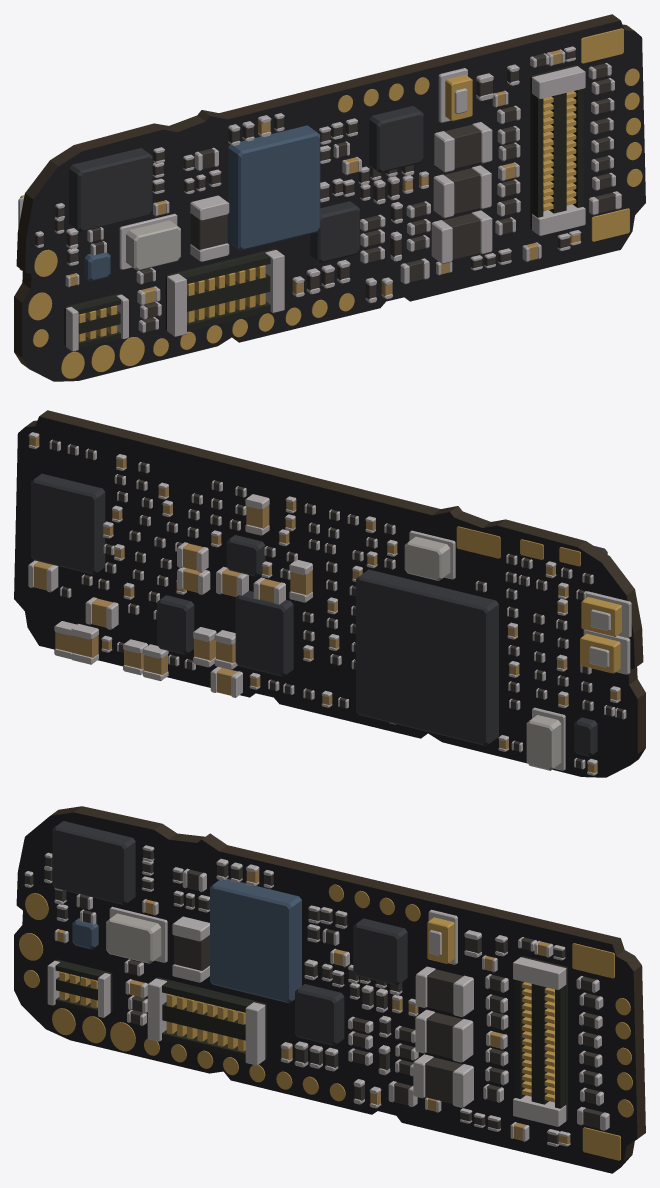
Rendered from g2-temple-board.glb.
The picture shows the model from 3 angles, top to bottom: view 1: azimuth 30°, elevation 25°; view 2: azimuth 150°, elevation 25°; view 3: azimuth 330°, elevation 25°; orthographic projection.
Visible parts, largest first — view 1: PCB substrate, U25643 package, Flex-end vertical socket, Centre horizontal socket, Rounded-end package, Inner square package, Rounded-end small socket, Rectangular metal-capped part, Flex-side passive lower, Flex-side passive middle, CY8C40 package, Flex-side passive upper (+9 smaller); view 2: PCB substrate, AP510BFA package, GX8002D marking package, Reverse upper middle package, Rounded-end upper metal can, Lower metal can, Reverse compact upper package, Rounded-end lower spring, Rounded-end upper spring, Reverse compact lower package, Reverse land 3, Reverse ceramic package 07 (+15 smaller); view 3: PCB substrate, U25643 package, Flex-end vertical socket, Centre horizontal socket, Rounded-end package, Inner square package, Rounded-end small socket, Rectangular metal-capped part, CY8C40 package, Flex-side passive lower, Flex-side passive middle, Flex-side passive upper (+9 smaller).
Part boxes in pixels (box(x1,y1,x2,y2)): PCB substrate: box(14, 14, 645, 381); U25643 package: box(228, 125, 320, 250); Flex-end vertical socket: box(530, 65, 585, 235); Centre horizontal socket: box(165, 249, 284, 336); Rounded-end package: box(69, 148, 152, 231); Inner square package: box(369, 106, 423, 172); Rounded-end small socket: box(64, 293, 128, 351); Rectangular metal-capped part: box(119, 213, 180, 270); Flex-side passive lower: box(431, 210, 492, 263); Flex-side passive middle: box(433, 165, 491, 218); CY8C40 package: box(310, 201, 359, 263); Flex-side passive upper: box(434, 122, 492, 172); PCB substrate: box(14, 410, 645, 777); AP510BFA package: box(356, 569, 498, 745); GX8002D marking package: box(31, 473, 105, 574); Reverse upper middle package: box(235, 591, 293, 676); Rounded-end upper metal can: box(526, 707, 565, 770); Lower metal can: box(404, 530, 455, 580); Reverse compact upper package: box(157, 595, 194, 654); Rounded-end lower spring: box(581, 591, 631, 637); Rounded-end upper spring: box(580, 629, 630, 674); Reverse compact lower package: box(226, 535, 265, 576); Reverse land 3: box(456, 526, 500, 558); Reverse ceramic package 07: box(71, 623, 98, 664); PCB substrate: box(14, 806, 645, 1173); U25643 package: box(210, 879, 301, 1003); Flex-end vertical socket: box(513, 956, 567, 1126); Centre horizontal socket: box(147, 977, 266, 1065); Rounded-end package: box(52, 821, 135, 904); Inner square package: box(353, 918, 407, 985); Rounded-end small socket: box(47, 959, 112, 1017); Rectangular metal-capped part: box(106, 906, 167, 963); CY8C40 package: box(295, 984, 344, 1045); Flex-side passive lower: box(413, 1054, 473, 1107); Flex-side passive middle: box(415, 1009, 473, 1062); Flex-side passive upper: box(415, 966, 473, 1017).
Bounding box in the file's own units: 0.0263 × 0.00945 × 0.00222.
